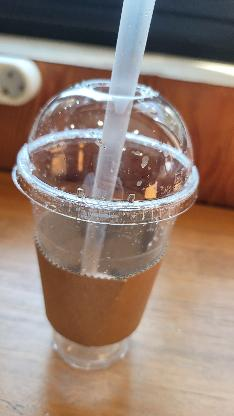Plastic Cup: (13, 78, 201, 372), (9, 78, 199, 226)
